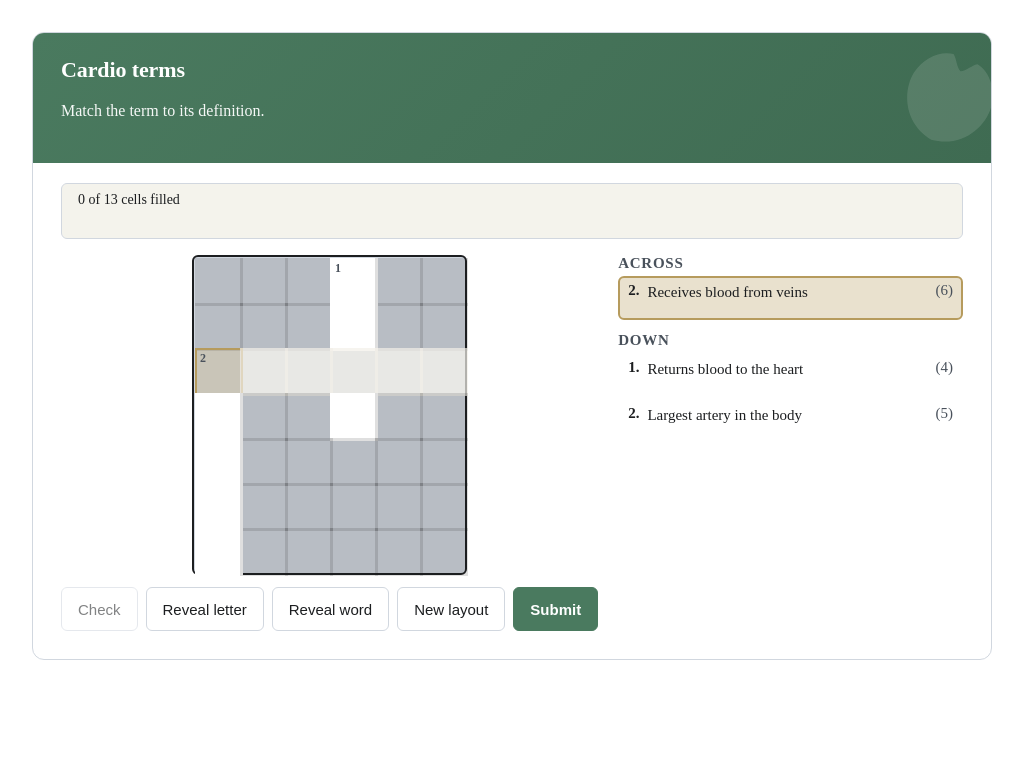
Test: Crossword › Check marks typed cells correct/incorrect without submitting
Step 1. Click the button "1. Returns blood to the heart (4)" → (791, 375), box [618,353,963,397]
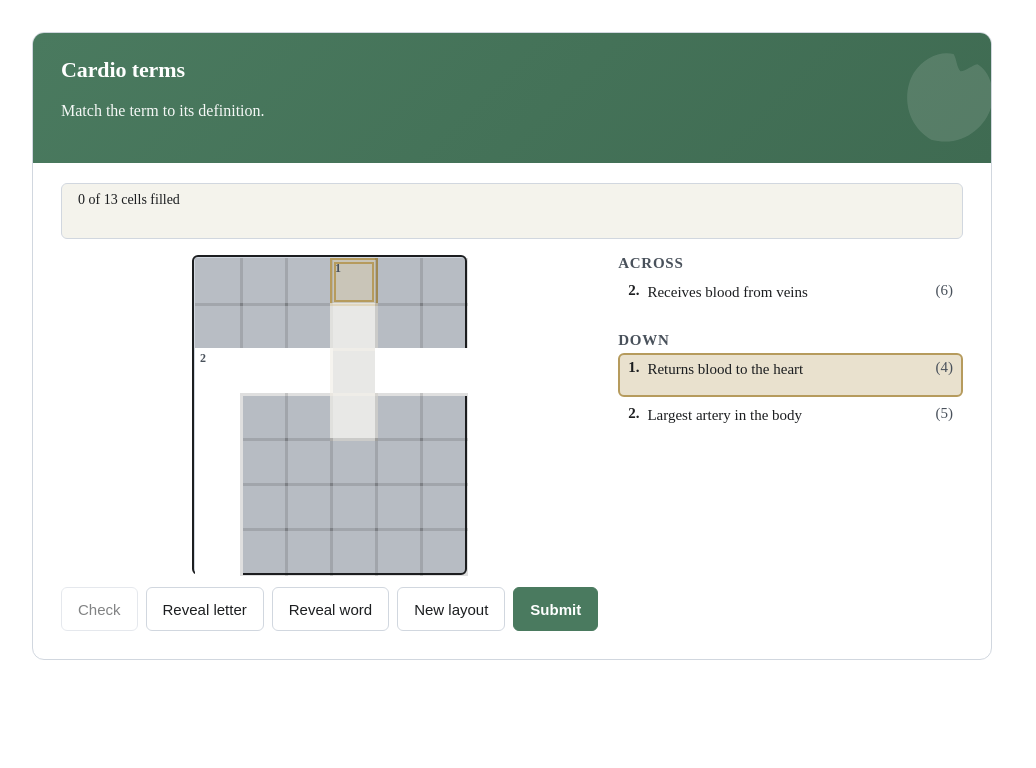
Step 2. Type keys "XXXX"
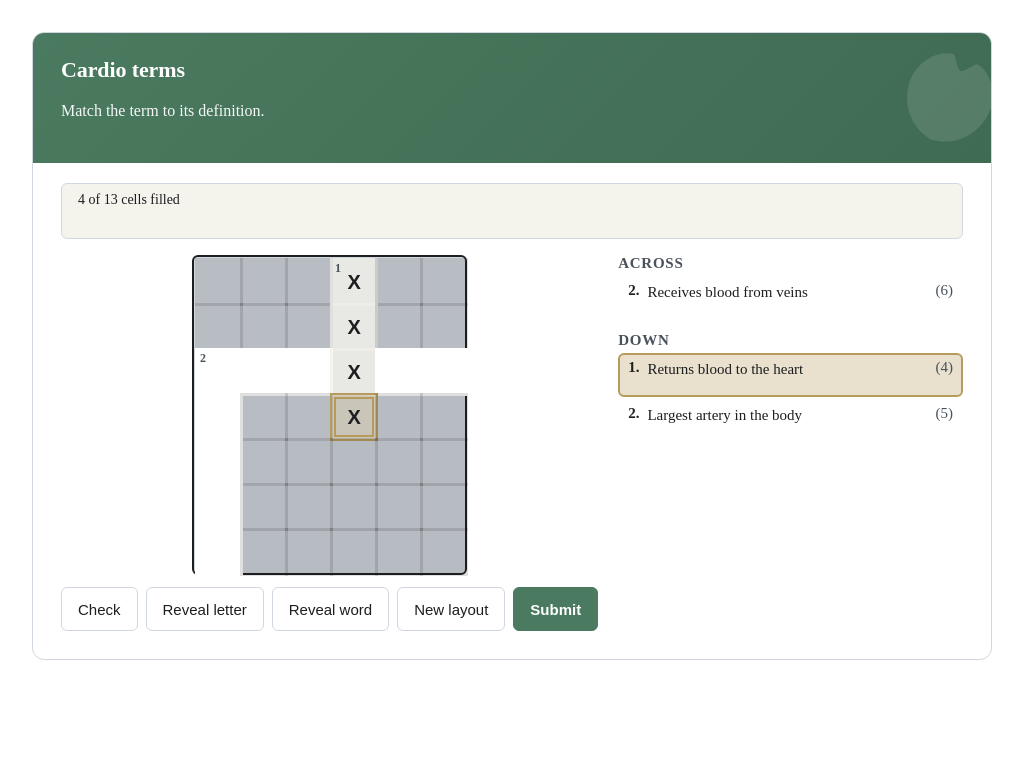
Step 3. Click the button "Check" → (99, 609), box [61,587,138,631]
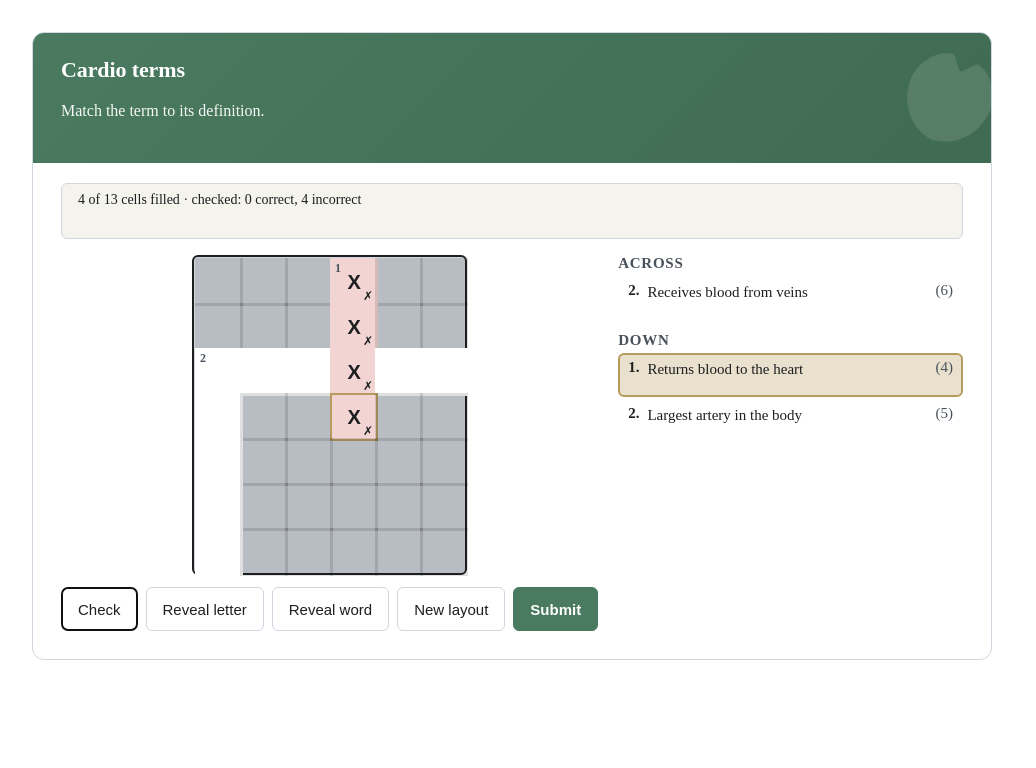
expect the text "1 ✗" is shown: met, box [330,258,378,306]
expect the message with class "kukui-cw__progress" shows "incorrect": met, box [180,192,361,207]
